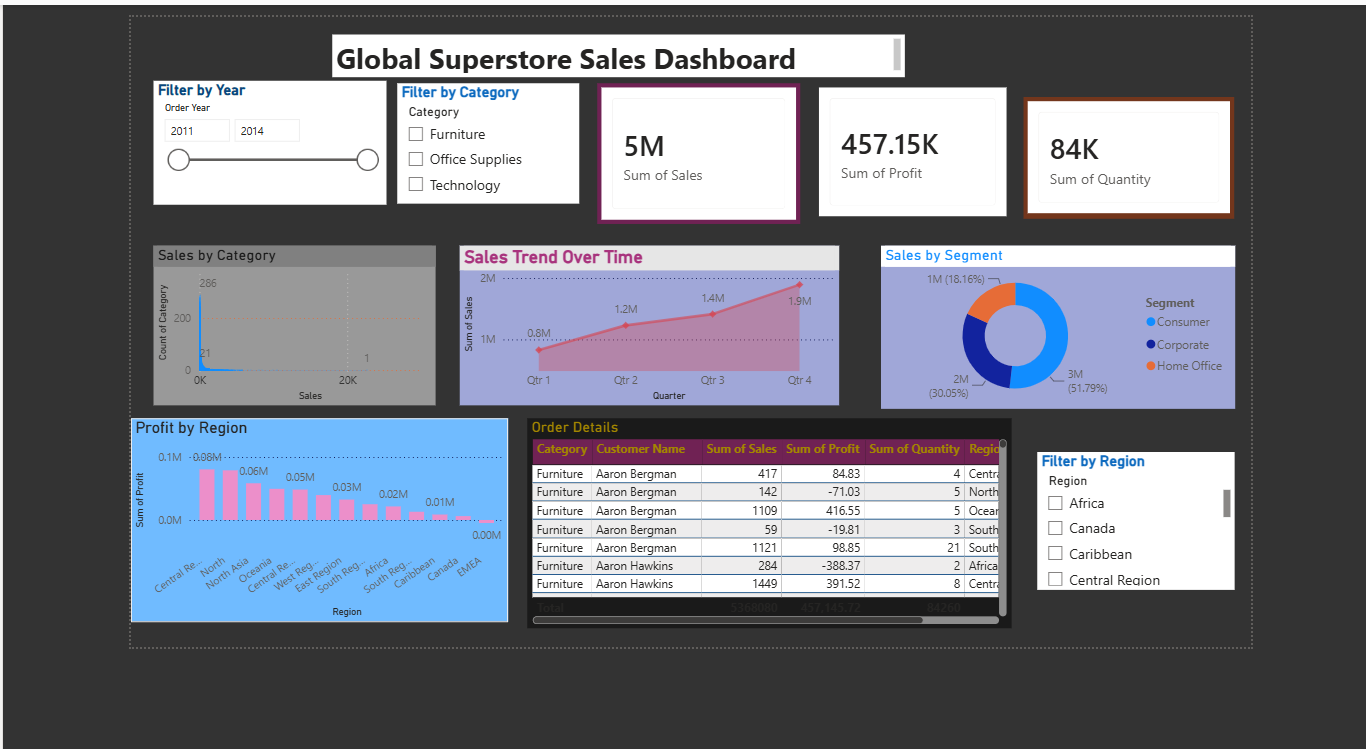

What the dashboard file says about the page in this screenshot:
{"tool":"powerbi","page":{"name":"Page 1","canvas":[1280,720],"ordinal":1},"visuals":[{"type":"cardVisual","fields":{"Data":["Sum(superstore.Sales)"]},"box":[532.2,75.6,232.2,161.1],"z":0},{"type":"cardVisual","fields":{"Data":["Sum(superstore.Profit)"]},"box":[781.1,75.6,224.4,157.8],"z":1000},{"type":"cardVisual","fields":{"Data":["Sum(superstore.Quantity)"]},"box":[1020,91.1,241.1,138.9],"z":2000},{"type":"columnChart","title":"Sales by Category","fields":{"Category":["superstore.Sales"],"Y":["CountNonNull(superstore.Category)"]},"box":[25.6,261.1,322.2,182.2],"z":3000},{"type":"clusteredColumnChart","title":"Profit by Region","fields":{"Category":["superstore.Region"],"Y":["Sum(superstore.Profit)"]},"box":[0,458.9,431.1,232.2],"z":4000},{"type":"lineChart","title":"Sales Trend Over Time","fields":{"Category":["superstore.Order Date.Variation.Date Hierarchy.Year","superstore.Order Date.Variation.Date Hierarchy.Quarter","superstore.Order Date.Variation.Date Hierarchy.Month","superstore.Order Date.Variation.Date Hierarchy.Day"],"Y":["Sum(superstore.Sales)"]},"box":[375.6,261.1,433.3,182.2],"z":5000},{"type":"donutChart","title":"Sales by Segment","fields":{"Category":["superstore.Segment"],"Y":["Sum(superstore.Sales)"]},"box":[856.7,261.1,404.4,186.7],"z":6000},{"type":"tableEx","title":"Order Details","fields":{"Values":["superstore.Category","superstore.Customer Name","Sum(superstore.Sales)","Sum(superstore.Profit)","Sum(superstore.Quantity)","superstore.Region"]},"box":[452.2,458.9,553.3,240],"z":7000},{"type":"textbox","box":[230,20,654.4,48.9],"z":8000},{"type":"slicer","title":"Filter by Year","fields":{"Values":["superstore.Order Year"]},"box":[25.6,72.2,265.6,141.1],"z":9000},{"type":"slicer","title":"Filter by Category","fields":{"Values":["superstore.Category"]},"box":[304.4,75.6,207.8,137.8],"z":10000},{"type":"slicer","title":"Filter by Region","fields":{"Values":["superstore.Region"]},"box":[1035.6,496.7,225.6,157.8],"z":11000}]}

Visuals, with their boxes in screenshot pixels (x1, y1, x2, y2), scaled from the page's 1280x720 canvas onto the 1366x749 screenshot:
cardVisual - Sum(superstore.Sales): (568, 79, 816, 246)
cardVisual - Sum(superstore.Profit): (834, 79, 1073, 243)
cardVisual - Sum(superstore.Quantity): (1089, 95, 1346, 239)
"Sales by Category" columnChart: (27, 272, 371, 461)
"Profit by Region" clusteredColumnChart: (0, 477, 460, 719)
"Sales Trend Over Time" lineChart: (401, 272, 863, 461)
"Sales by Segment" donutChart: (914, 272, 1346, 466)
"Order Details" tableEx: (483, 477, 1073, 727)
textbox: (245, 21, 944, 72)
"Filter by Year" slicer: (27, 75, 311, 222)
"Filter by Category" slicer: (325, 79, 547, 222)
"Filter by Region" slicer: (1105, 517, 1346, 681)
